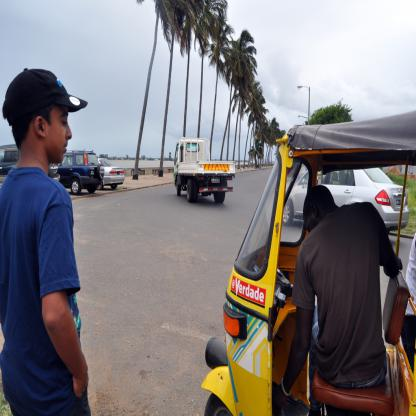Car: (284, 168, 410, 226), (53, 146, 107, 192), (98, 156, 125, 193), (0, 146, 18, 183)
Truck: (170, 138, 239, 205)
